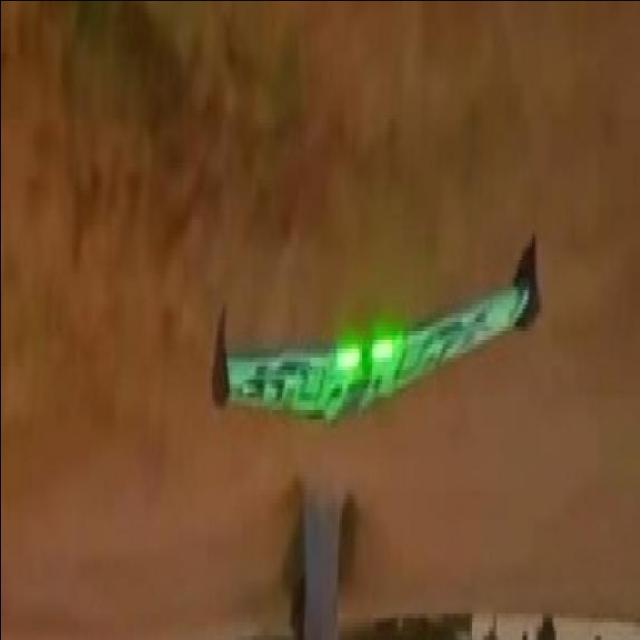plane: (207, 232, 540, 430)
